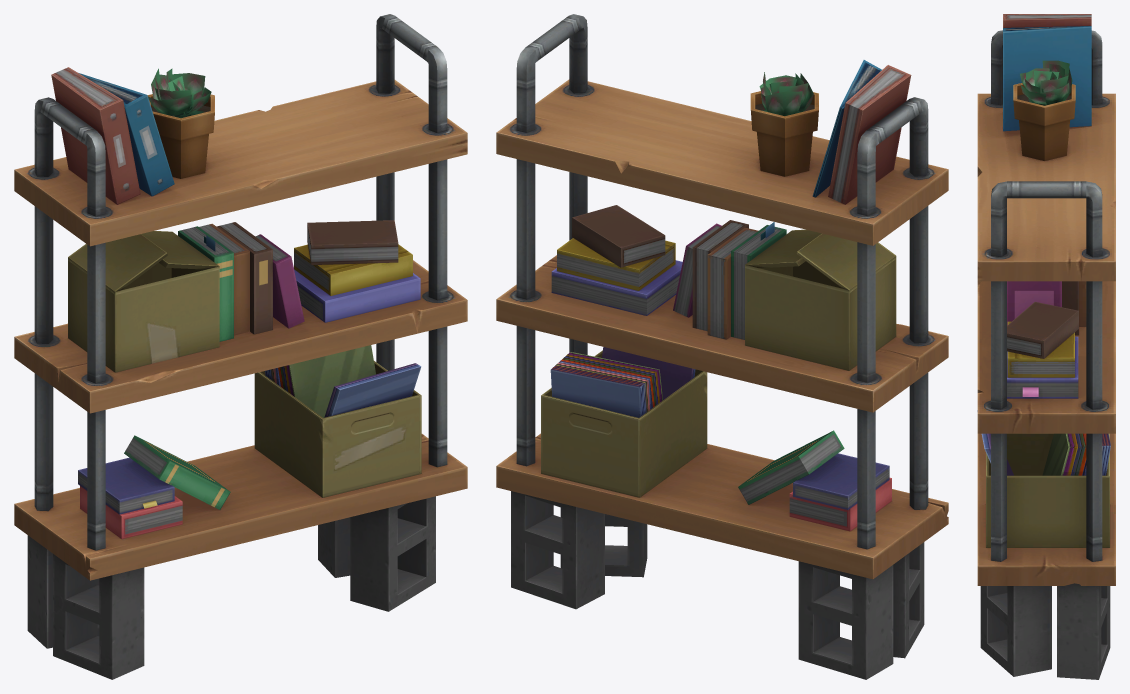
File: estanteria.fbx
3 views of the same model, side by side, from view 1: azimuth 30°, elevation 25°; view 2: azimuth 150°, elevation 25°; view 3: azimuth 270°, elevation 25° (orthographic). The views are drawn at different scales.
Visible parts, largest first — view 1: s4studio_mesh_0; view 2: s4studio_mesh_0; view 3: s4studio_mesh_0.
Part boxes in pixels (<box>): s4studio_mesh_0: <box>14,14,467,679</box>; s4studio_mesh_0: <box>496,14,948,679</box>; s4studio_mesh_0: <box>977,14,1115,679</box>.
Bounding box in the file's own units: 139 × 199 × 48.46.
Materials: 1 (1 with a texture image).
